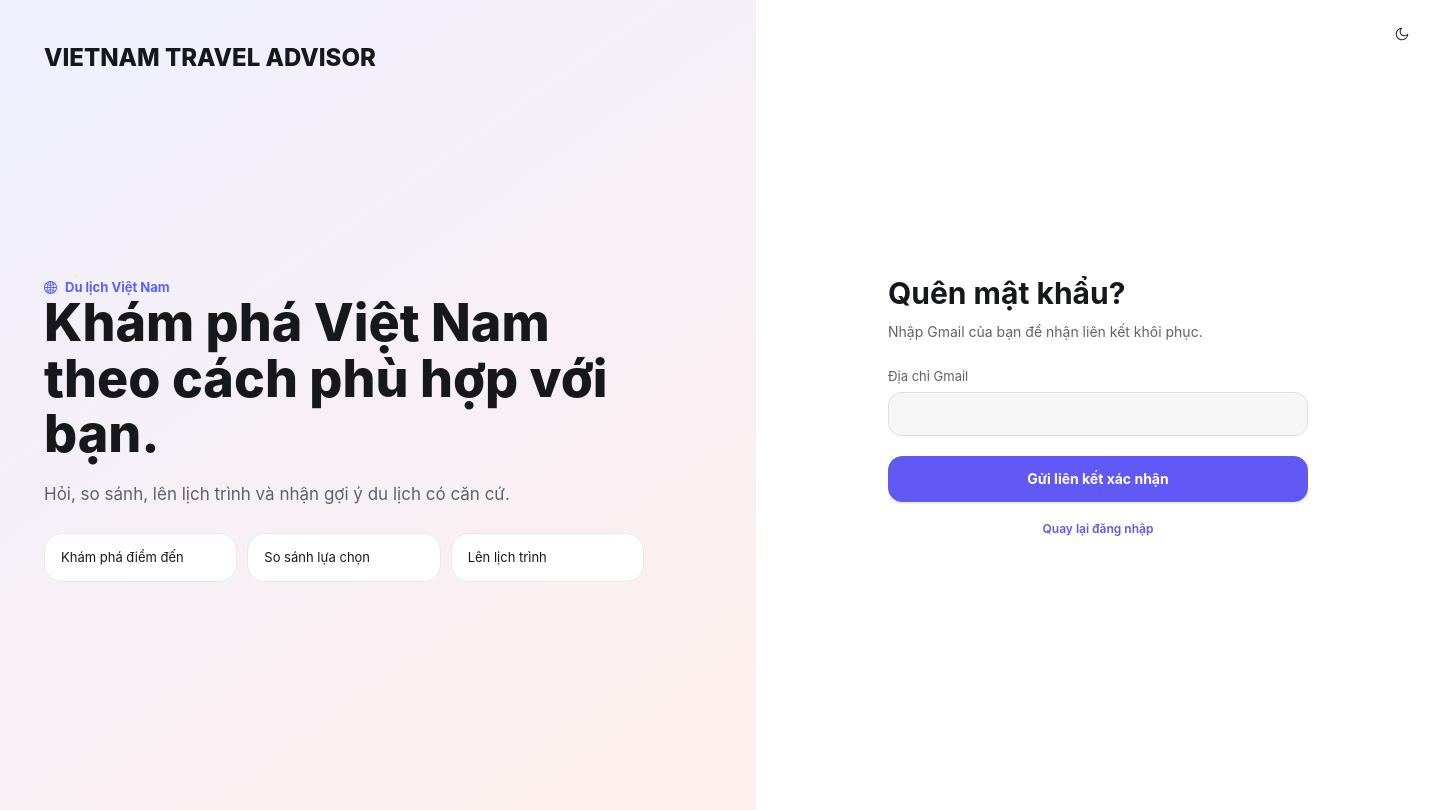
Test: Authentication user flows › shows the generic email confirmation after requesting recovery
In the field labelled "Địa chỉ Gmail": (1098, 414) left=888, top=392, right=1308, bottom=436, type "user@gmail.com"
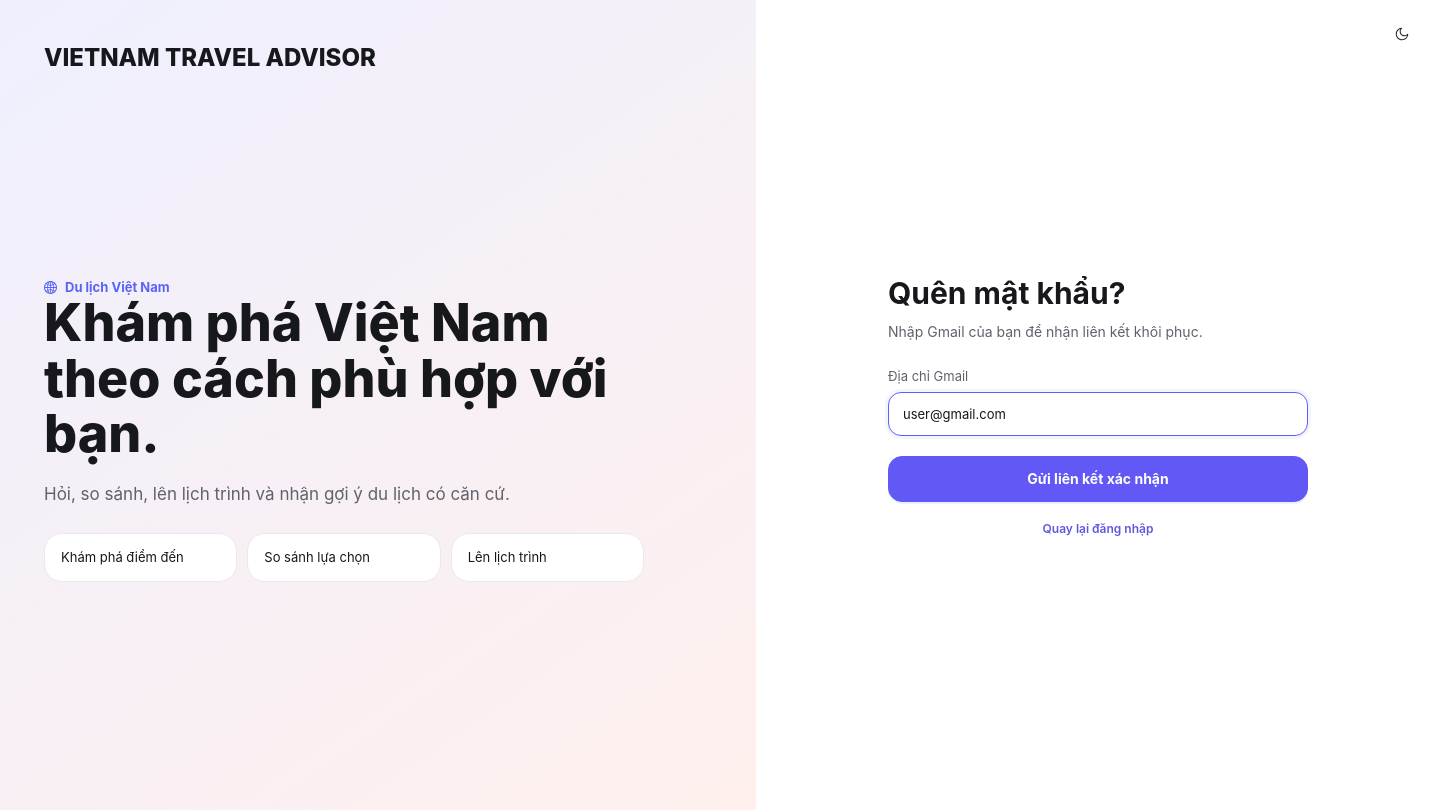
Click the button "Gửi liên kết xác nhận": (1098, 479) left=888, top=456, right=1308, bottom=502
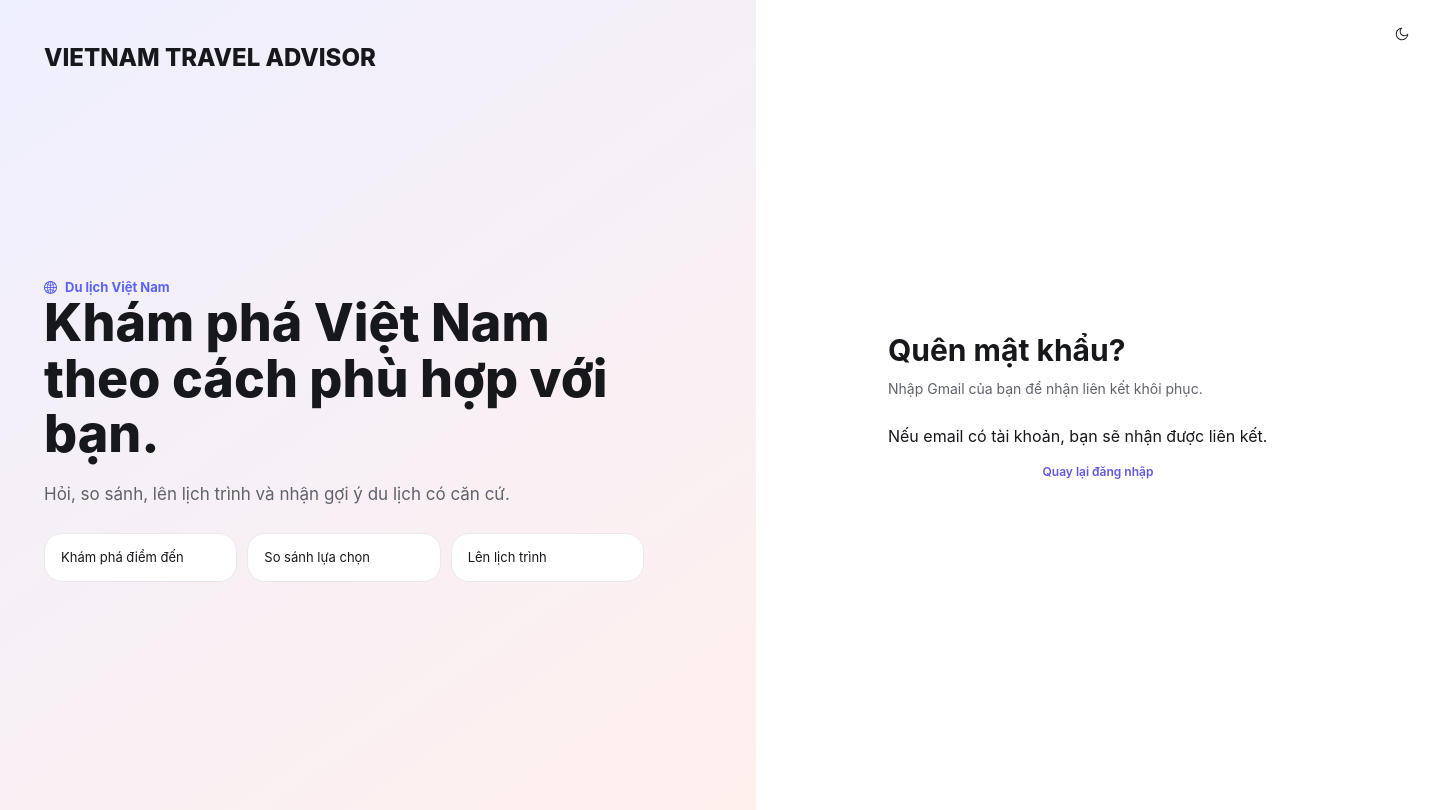
Expected: the message "Nếu email có tài khoản, bạn sẽ nhận được liên kết." is shown, left=888, top=427, right=1308, bottom=445
